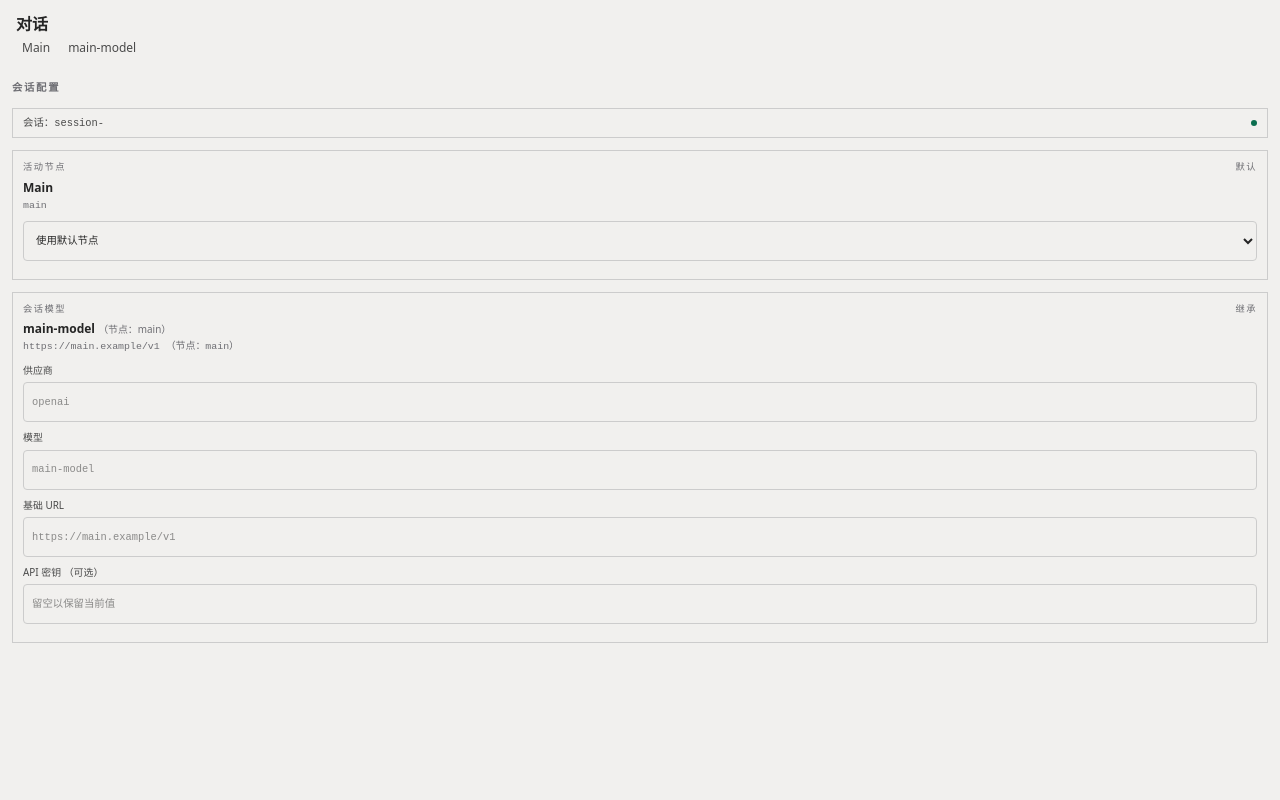
顶栏 › 顶栏的节点读取晚到时不盖掉面板刚切好的节点
Select "Entry" in the dropdown at (640, 241), box [23, 221, 1257, 261]
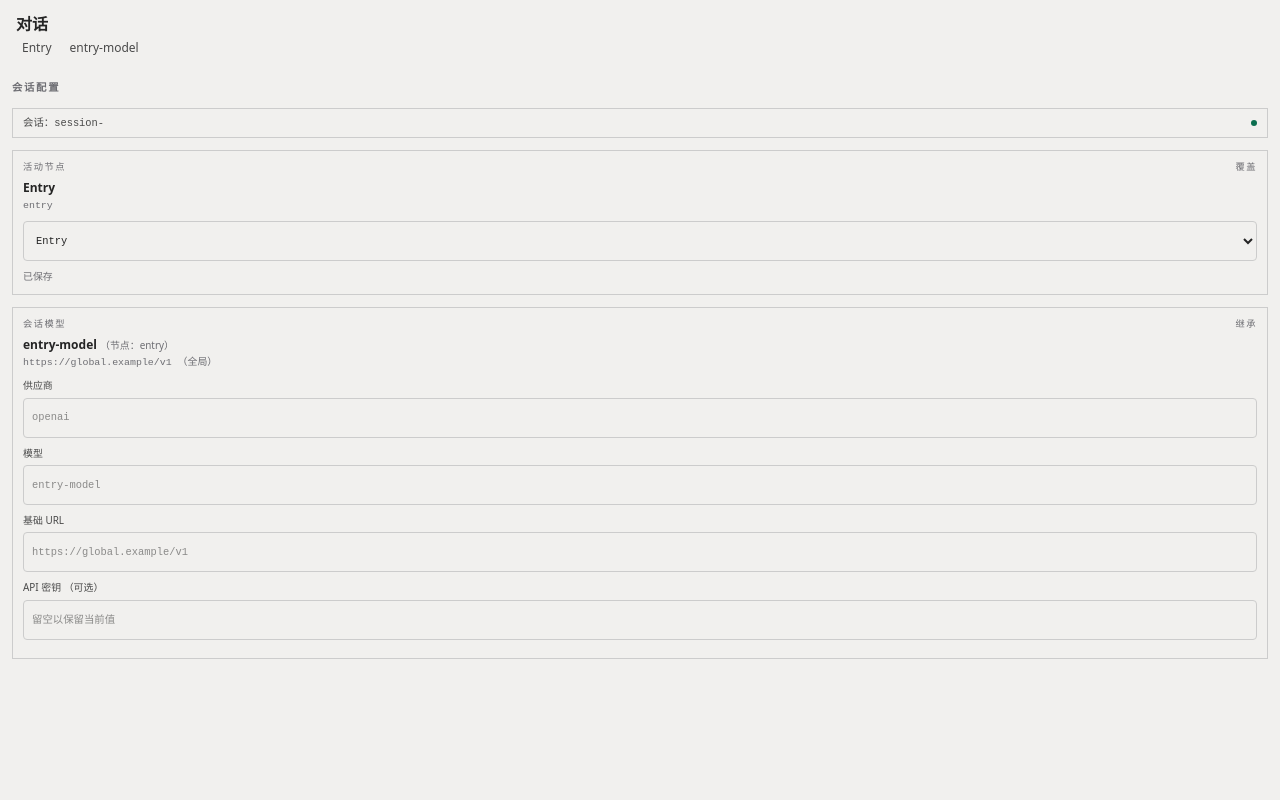
Expected: the text "entry" is shown, [23, 200, 53, 211]
Expected: the button titled "切换节点" reads "Entry", [16, 40, 52, 56]
Expected: the text "Entry" below "活动节点" is shown, [23, 179, 55, 196]
